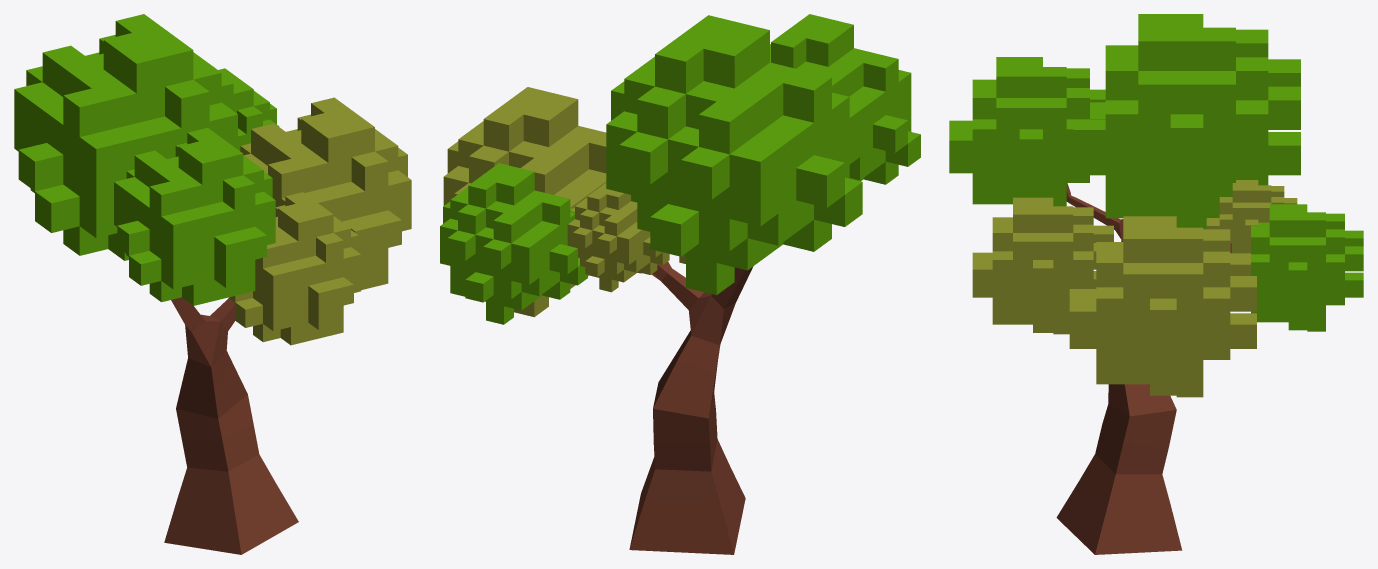
Rendered from Tree_05.fbx.
3 views of the same model, side by side, from view 1: azimuth 30°, elevation 25°; view 2: azimuth 150°, elevation 25°; view 3: azimuth 270°, elevation 25° (orthographic). The views are drawn at different scales.
Parts seen in each view (by area): view 1: Sphere.014, Sphere.015, Cube.002, Sphere.016, Sphere.017, Sphere.012; view 2: Sphere.014, Cube.002, Sphere.012, Sphere.016, Sphere.015, Sphere.013; view 3: Sphere.014, Sphere.016, Sphere.015, Cube.002, Sphere.017, Sphere.012, Sphere.013.
Boxes of the visible parts, bbox=[...] form: Sphere.014: bbox=[14, 14, 237, 260]; Sphere.015: bbox=[114, 128, 275, 305]; Cube.002: bbox=[164, 297, 298, 554]; Sphere.016: bbox=[240, 97, 411, 289]; Sphere.017: bbox=[229, 192, 361, 345]; Sphere.012: bbox=[218, 68, 279, 150]; Sphere.014: bbox=[606, 15, 862, 295]; Cube.002: bbox=[629, 261, 753, 554]; Sphere.012: bbox=[440, 163, 587, 324]; Sphere.016: bbox=[443, 87, 606, 317]; Sphere.015: bbox=[770, 14, 920, 184]; Sphere.013: bbox=[567, 183, 669, 292]; Sphere.014: bbox=[1073, 14, 1300, 229]; Sphere.016: bbox=[1069, 216, 1256, 397]; Sphere.015: bbox=[949, 57, 1105, 206]; Cube.002: bbox=[1056, 183, 1231, 554]; Sphere.017: bbox=[972, 197, 1113, 334]; Sphere.012: bbox=[1251, 204, 1363, 331]; Sphere.013: bbox=[1206, 180, 1297, 253].
Bounding box in the file's own units: 254 × 327 × 254.
